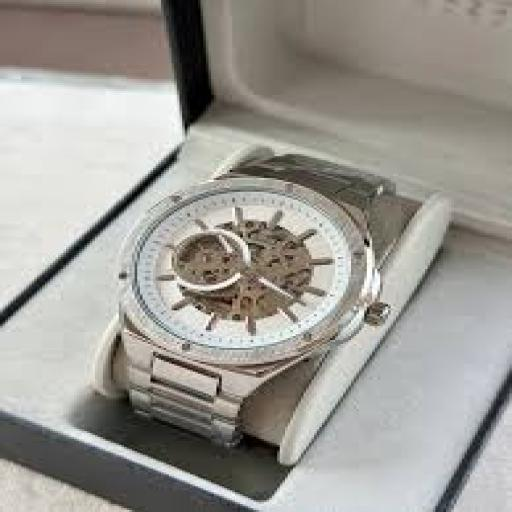KolSaati: (88, 107, 422, 463)
